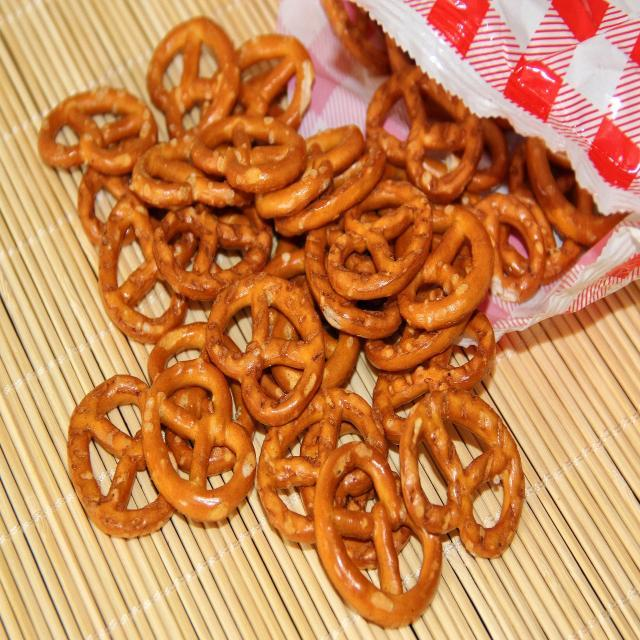Salatini: (40, 20, 528, 624)
